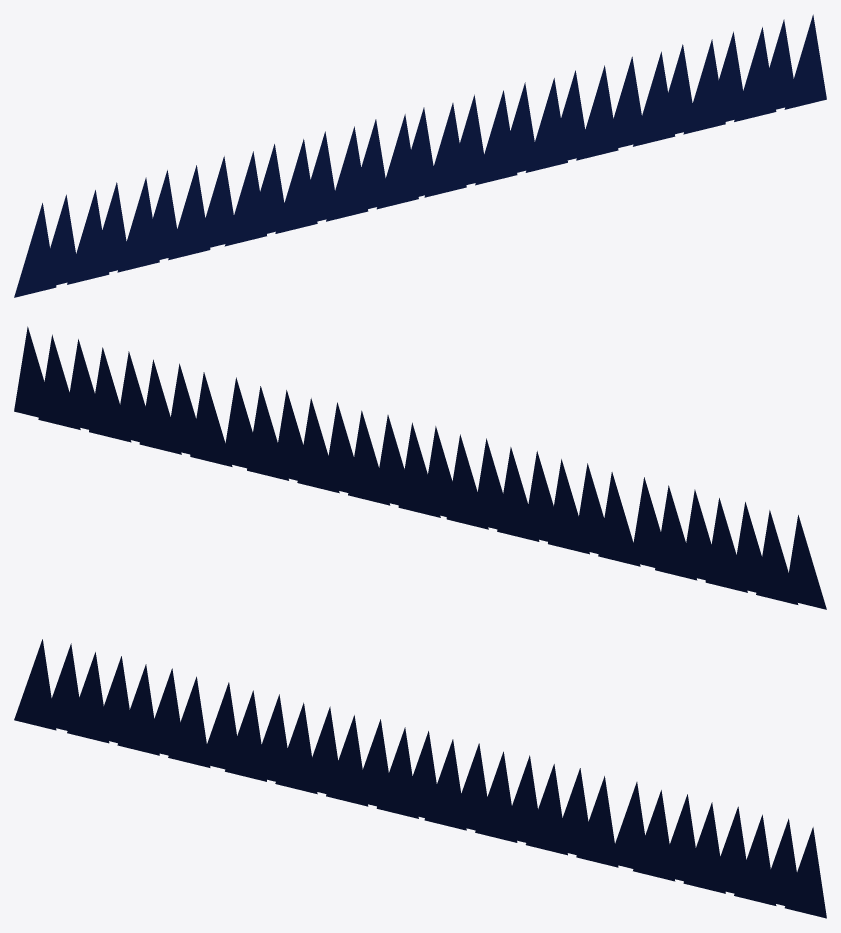
Rendered from herbe-alone.gltf.
The picture shows the model from 3 angles, top to bottom: view 1: azimuth 30°, elevation 25°; view 2: azimuth 150°, elevation 25°; view 3: azimuth 330°, elevation 25°; orthographic projection.
Visible parts, largest first — view 1: Curve.004; view 2: Curve.004; view 3: Curve.004.
Boxes of the visible parts, x1=… form: Curve.004: x1=14, y1=14, x2=826, y2=297; Curve.004: x1=14, y1=326, x2=826, y2=609; Curve.004: x1=14, y1=639, x2=826, y2=918.
Bounding box in the file's own units: 0.1405 × 0.0147 × 0.00071.
